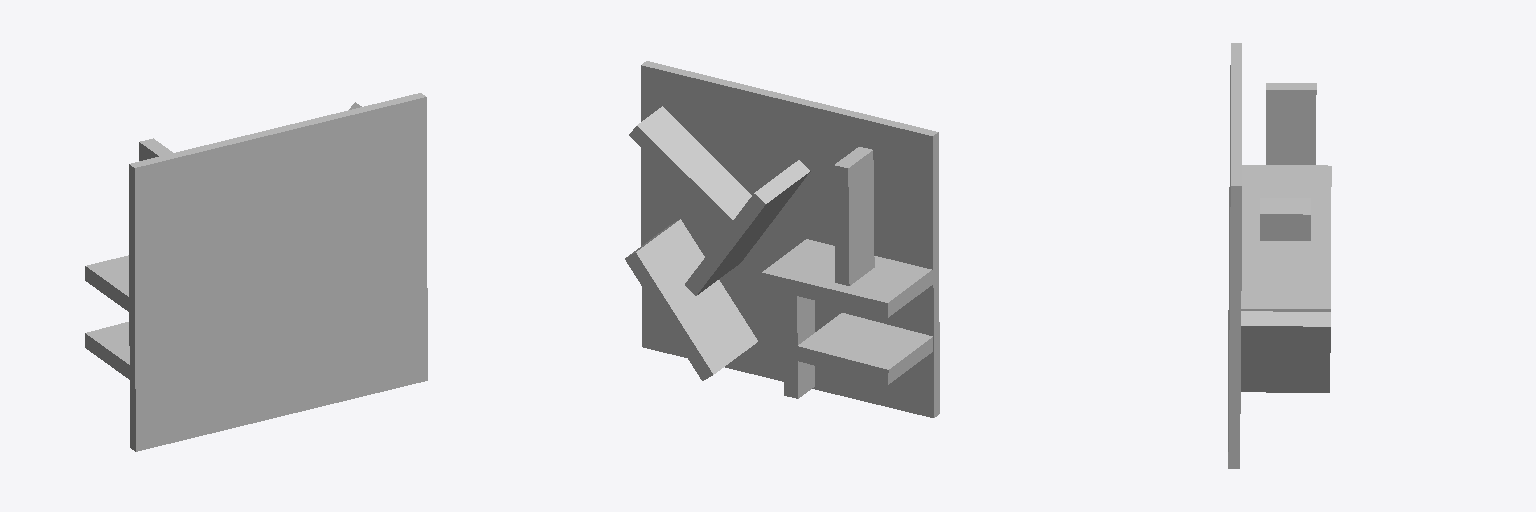
Rendered from room2.obj.
3 views of the same model, side by side, from view 1: azimuth 30°, elevation 25°; view 2: azimuth 150°, elevation 25°; view 3: azimuth 270°, elevation 25° (orthographic).
Parts seen in each view (by area): view 1: Cube.001_Cube.002, Cube.007_Cube.008, Cube_Cube.001; view 2: Cube.001_Cube.002, Cube.006_Cube.007, Cube_Cube.001, Cube.007_Cube.008, Cube.005_Cube.006, Cube.002_Cube.003, Cube.004_Cube.005, Cube.003_Cube.004; view 3: Cube.004_Cube.005, Cube.006_Cube.007, Cube.001_Cube.002, Cube.002_Cube.003, Cube.005_Cube.006.
Part boxes in pixels (bbox=[...]): Cube.001_Cube.002: bbox=[129, 93, 427, 451]; Cube.007_Cube.008: bbox=[85, 322, 129, 379]; Cube_Cube.001: bbox=[85, 255, 128, 311]; Cube.001_Cube.002: bbox=[641, 61, 939, 417]; Cube.006_Cube.007: bbox=[625, 219, 757, 380]; Cube_Cube.001: bbox=[762, 239, 932, 317]; Cube.007_Cube.008: bbox=[797, 313, 932, 384]; Cube.005_Cube.006: bbox=[629, 106, 751, 230]; Cube.002_Cube.003: bbox=[834, 147, 874, 285]; Cube.004_Cube.005: bbox=[685, 160, 810, 295]; Cube.003_Cube.004: bbox=[783, 293, 814, 398]; Cube.004_Cube.005: bbox=[1241, 165, 1331, 311]; Cube.006_Cube.007: bbox=[1241, 311, 1330, 392]; Cube.001_Cube.002: bbox=[1228, 43, 1241, 468]; Cube.002_Cube.003: bbox=[1266, 83, 1316, 164]; Cube.005_Cube.006: bbox=[1260, 198, 1310, 240].
Size of the model in its own units: 11.11 by 10.29 by 3.4.